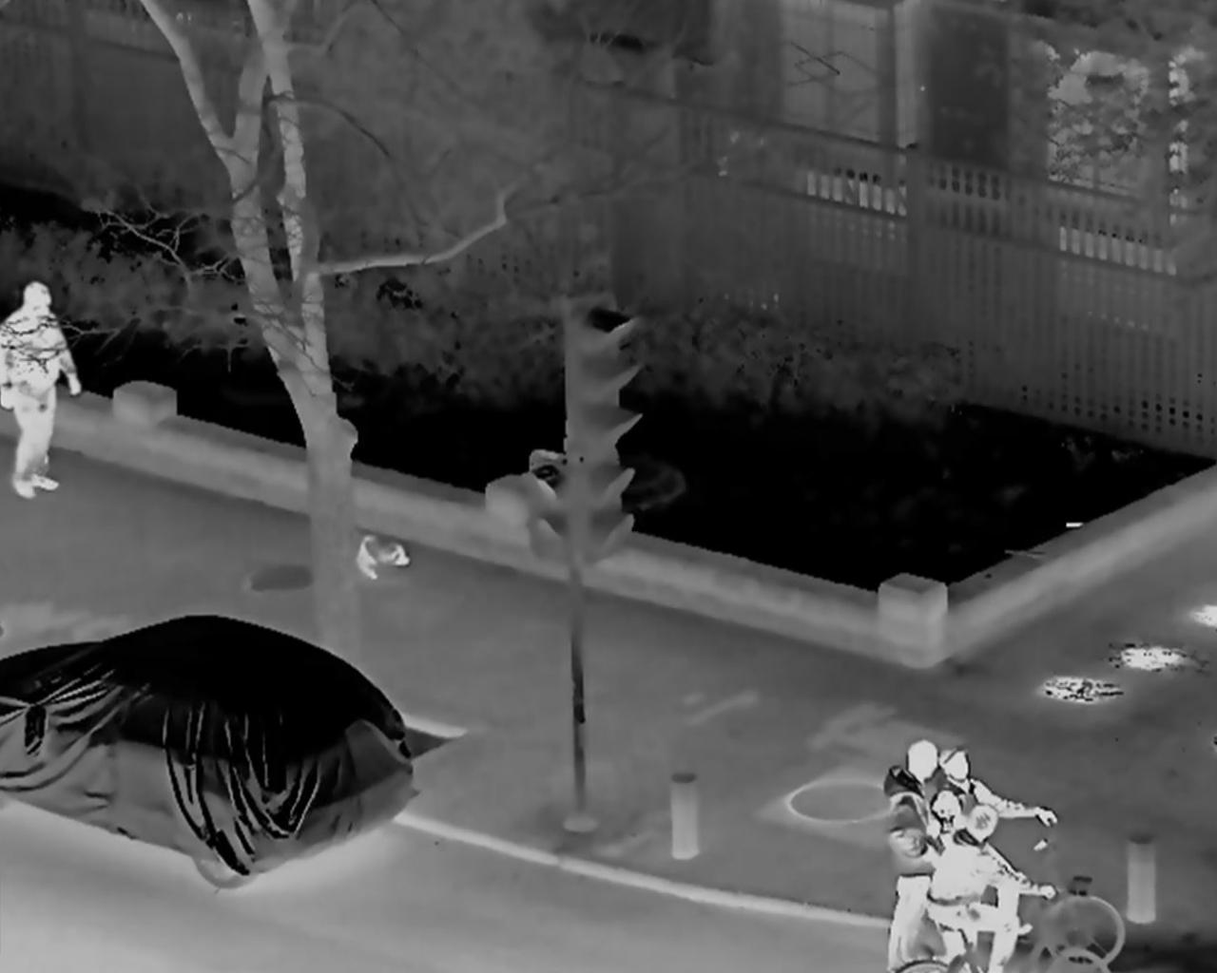person: (925, 749, 1052, 935), (929, 801, 1061, 973), (874, 741, 946, 957)
